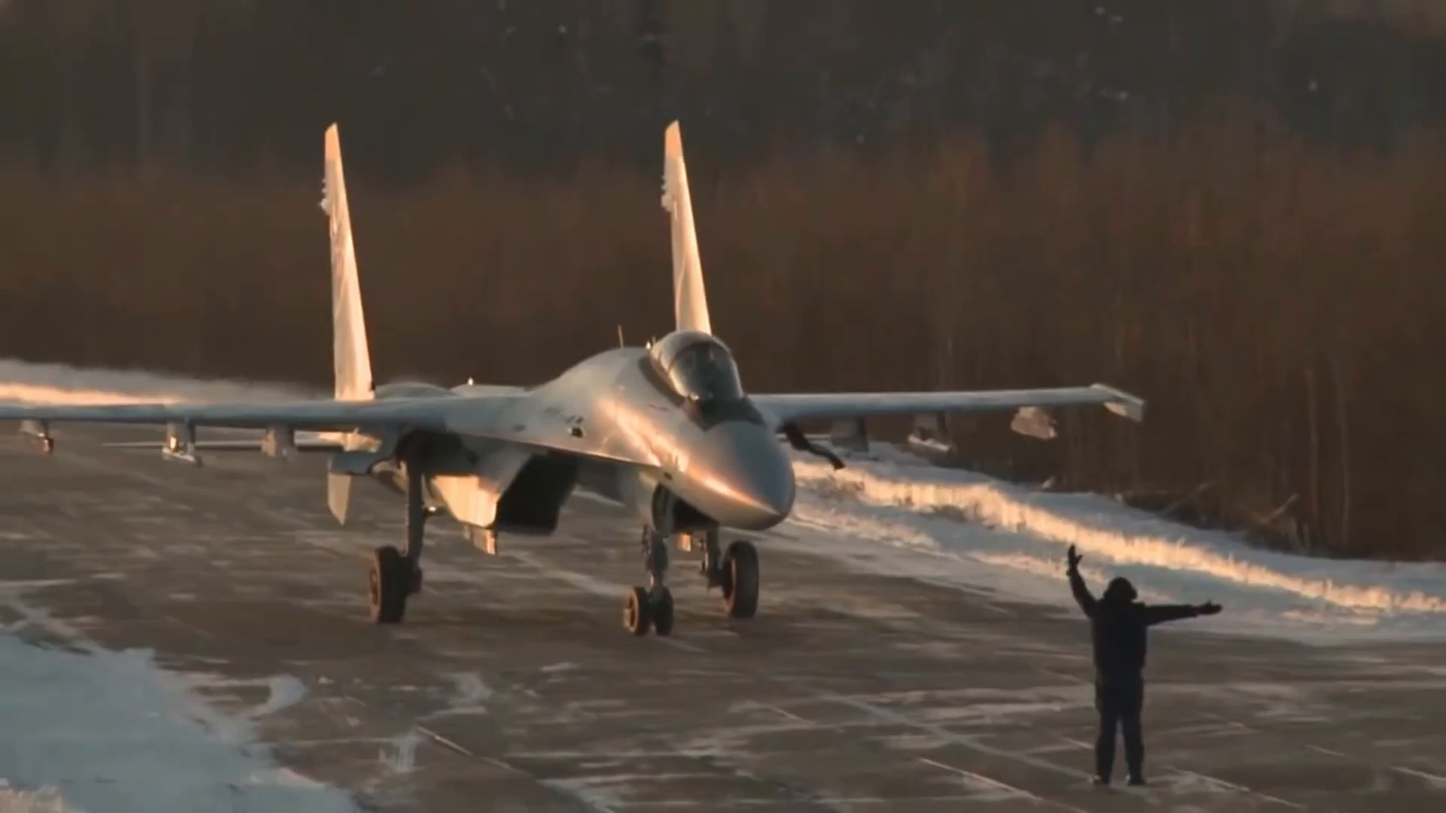Su35: (9, 116, 1145, 637)
